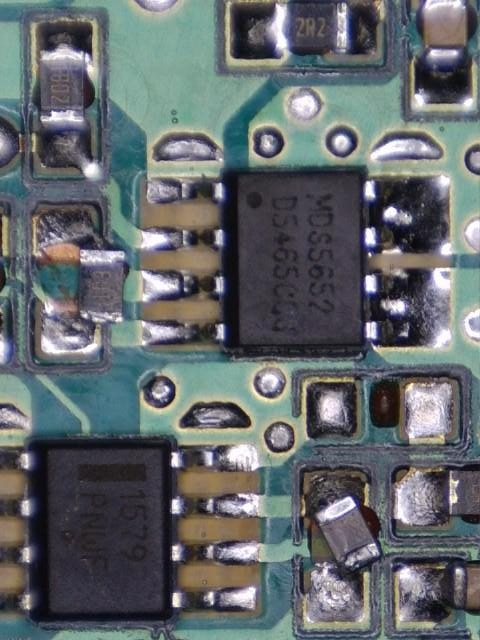pcb_defect: (36, 209, 125, 353), (305, 476, 384, 624), (399, 561, 480, 623), (396, 469, 480, 526)
